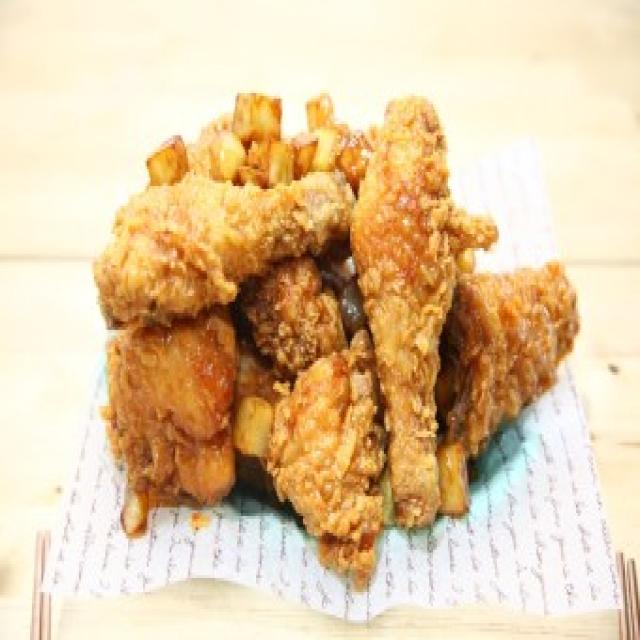Frango: (91, 82, 573, 600)
